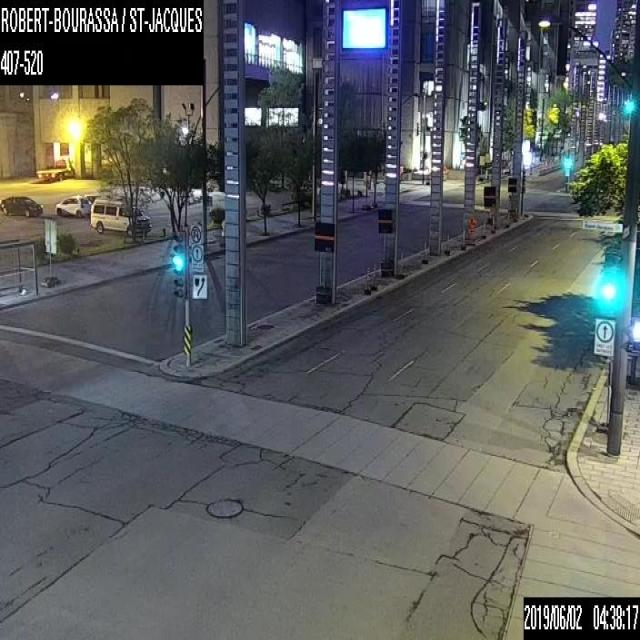construction: (463, 213, 477, 245), (364, 266, 369, 290), (371, 261, 375, 288), (482, 217, 486, 236), (400, 256, 404, 273), (445, 230, 448, 250), (423, 240, 426, 259), (492, 213, 495, 231), (506, 209, 509, 224), (513, 209, 516, 220), (523, 207, 526, 216)
vehicle: (90, 197, 151, 234), (36, 155, 74, 182), (0, 195, 42, 216), (54, 194, 91, 214)
